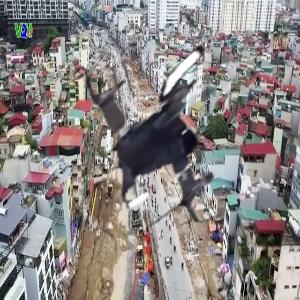drone: (66, 19, 284, 237)
